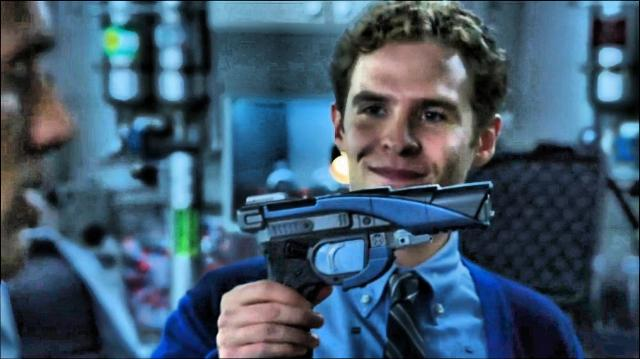pistol: (178, 168, 512, 340)
